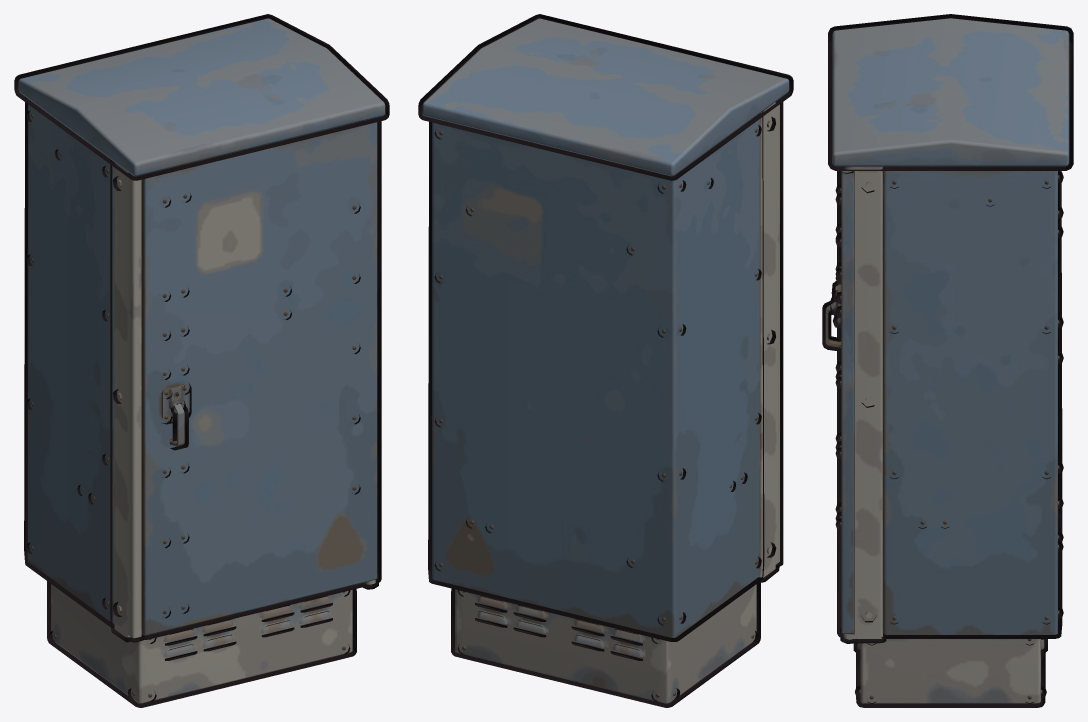
The model's file is SM_Int_UtilityBox.fbx.
3 renders of one model, left to right at view 1: azimuth 30°, elevation 25°; view 2: azimuth 150°, elevation 25°; view 3: azimuth 270°, elevation 25°, orthographic.
Visible parts, largest first — view 1: SM_Int_UtilityBox; view 2: SM_Int_UtilityBox; view 3: SM_Int_UtilityBox.
Boxes of the visible parts, box(x1,y1,x2,y2) form: SM_Int_UtilityBox: box(14, 14, 389, 707); SM_Int_UtilityBox: box(418, 14, 793, 707); SM_Int_UtilityBox: box(822, 14, 1073, 707).
Size of the model in its own units: 0.5358 by 1.14 by 0.4457.
